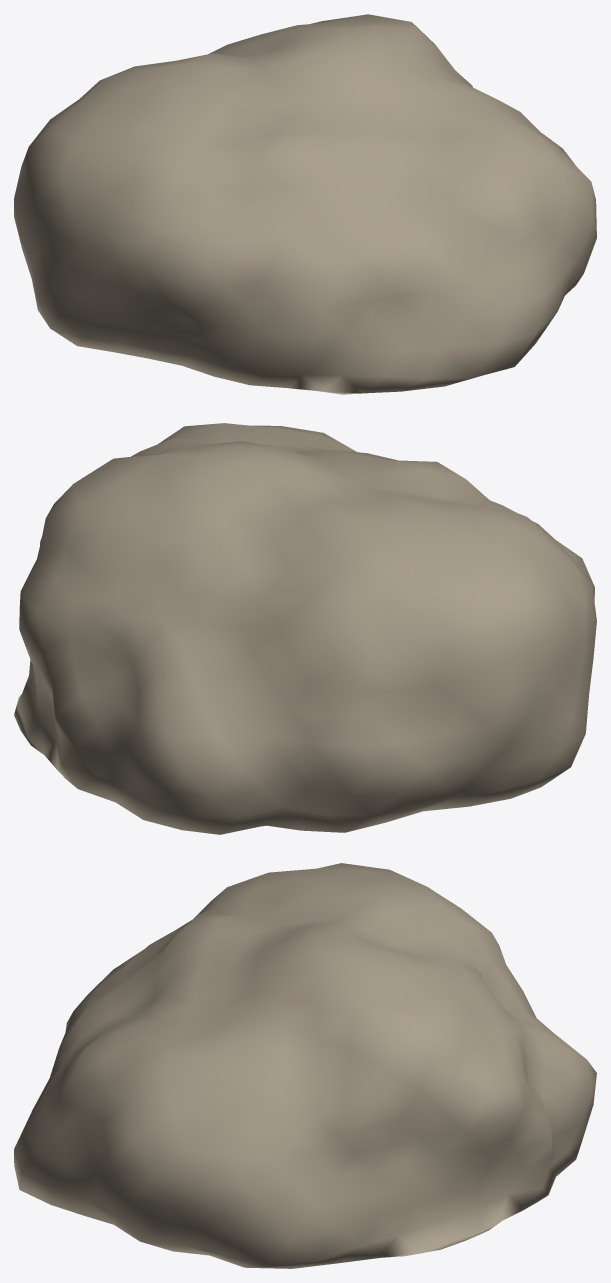
Rendered from rock_c.glb.
The picture shows the model from 3 angles, top to bottom: view 1: azimuth 30°, elevation 25°; view 2: azimuth 150°, elevation 25°; view 3: azimuth 270°, elevation 25°; orthographic projection. The views are drawn at different scales.
Parts seen in each view (by area): view 1: rock_c; view 2: rock_c; view 3: rock_c.
Boxes of the visible parts, bbox=[...] form: rock_c: bbox=[14, 14, 596, 394]; rock_c: bbox=[14, 423, 596, 834]; rock_c: bbox=[14, 863, 596, 1268].
Bounding box in the file's own units: 1.03 × 0.457 × 1.04.
